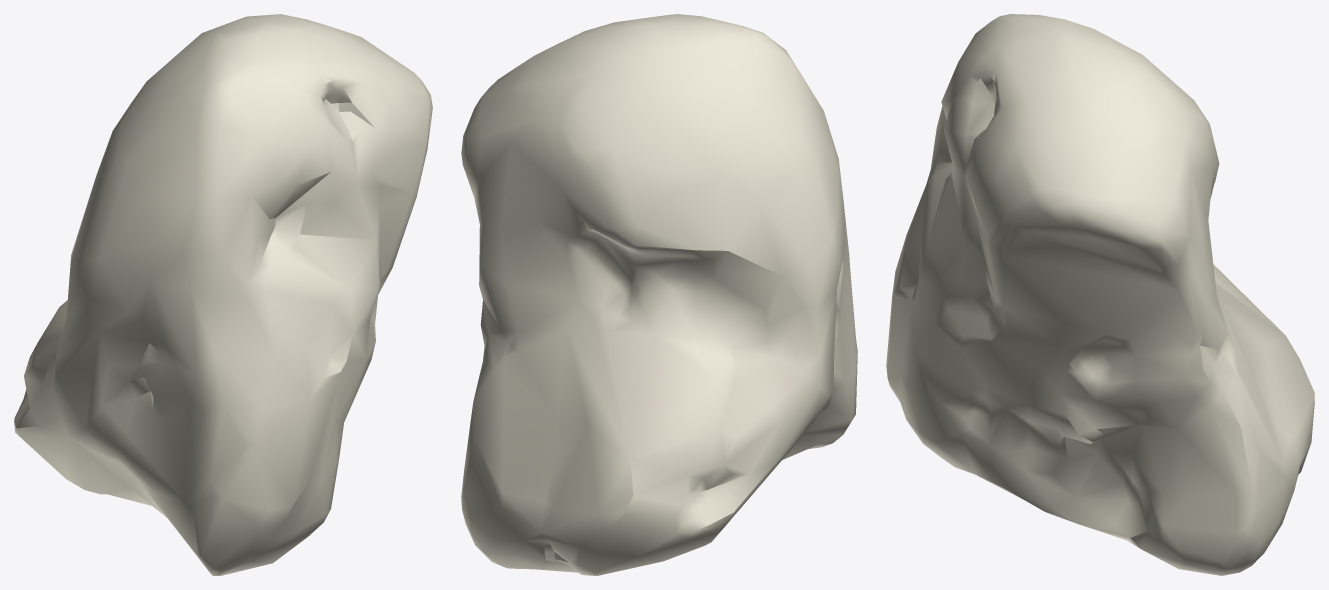
The model's file is fma24446.glb.
The picture shows the model from 3 angles, left to right: view 1: azimuth 30°, elevation 25°; view 2: azimuth 150°, elevation 25°; view 3: azimuth 270°, elevation 25°; orthographic projection. The views are drawn at different scales.
Parts seen in each view (by area): view 1: FMA24446; view 2: FMA24446; view 3: FMA24446.
Boxes of the visible parts, x1,y1,x2,y2 form: FMA24446: (14,14,432,575); FMA24446: (461,14,857,575); FMA24446: (886,14,1314,575).
Bounding box in the file's own units: 0.0162 × 0.0227 × 0.0175.
